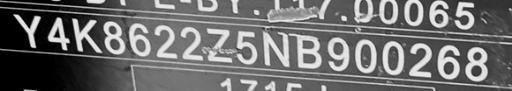letter: (8, 11, 44, 52), (320, 32, 354, 75), (461, 43, 491, 90), (68, 15, 104, 54), (350, 33, 382, 76), (204, 24, 234, 67), (293, 29, 323, 72), (378, 35, 408, 78), (406, 37, 436, 80), (432, 41, 464, 80), (44, 12, 74, 53), (176, 23, 206, 64), (230, 26, 260, 67), (260, 26, 290, 67), (125, 18, 155, 57), (100, 17, 128, 56), (152, 22, 178, 61)
